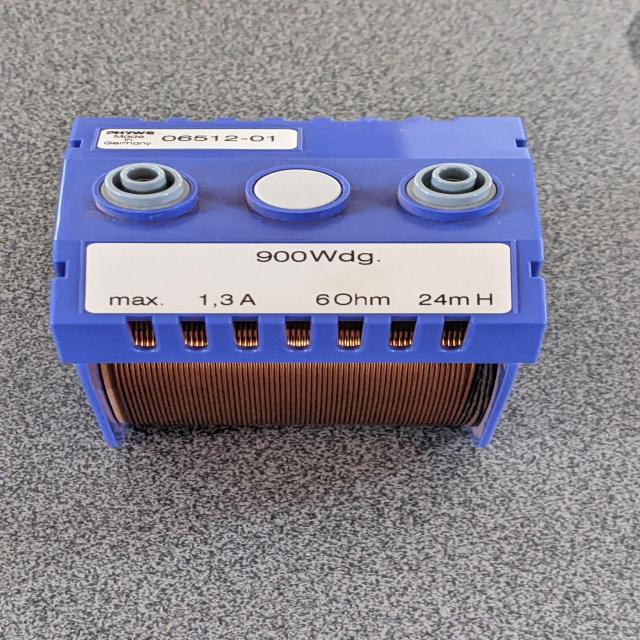Solenoid: (36, 110, 579, 451)
